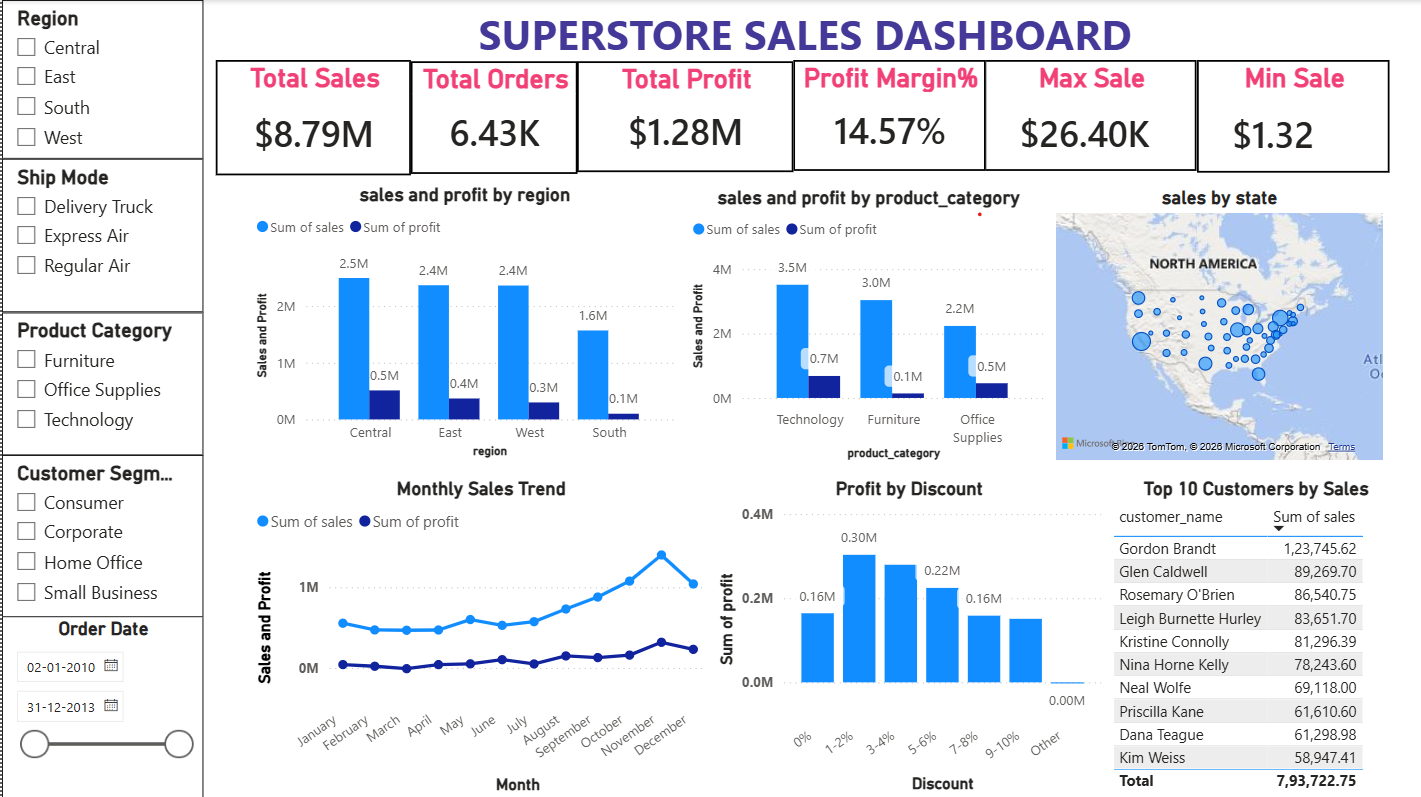

This screenshot's page, from the dashboard's own definition file:
{"tool":"powerbi","page":{"name":"Page 1","canvas":[1280,720],"ordinal":0},"visuals":[{"type":"slicer","fields":{"Values":["samplesuperstore_cleaned.region"]},"box":[0,0,181.3,143.5],"z":0},{"type":"slicer","fields":{"Values":["samplesuperstore_cleaned.ship_mode"]},"box":[0,143.5,181.3,138],"z":1000},{"type":"slicer","fields":{"Values":["samplesuperstore_cleaned.product_category"]},"box":[0,281.5,181.3,128.6],"z":2000},{"type":"slicer","fields":{"Values":["samplesuperstore_cleaned.customer_segment"]},"box":[0,410.1,181.3,146.2],"z":3000},{"type":"slicer","title":"Order Date","fields":{"Values":["samplesuperstore_cleaned.order_date"]},"box":[0,556.2,181.3,163.8],"z":4000},{"type":"lineClusteredColumnComboChart","title":" sales and  profit by product_category","fields":{"Category":["samplesuperstore_cleaned.product_category"],"Y":["Sum(samplesuperstore_cleaned.sales)","Sum(samplesuperstore_cleaned.profit)"]},"box":[617.5,167.5,327.7,251.9],"z":5000},{"type":"clusteredColumnChart","title":" sales and profit by region","fields":{"Category":["samplesuperstore_cleaned.region"],"Y":["Sum(samplesuperstore_cleaned.sales)","Sum(samplesuperstore_cleaned.profit)"]},"box":[223.8,166.2,386.2,252.5],"z":6000},{"type":"textbox","box":[309.9,0,748.4,66.3],"z":7000},{"type":"cardVisual","title":"Max Sale","fields":{"Data":["samplesuperstore_cleaned.Max Sale"]},"box":[886.4,54.1,190.8,100.1],"z":8000},{"type":"cardVisual","title":"Min Sale","fields":{"Data":["samplesuperstore_cleaned.Min Sale"]},"box":[1077.3,54.1,173.2,101.5],"z":9000},{"type":"cardVisual","title":"Profit Margin%","fields":{"Data":["samplesuperstore_cleaned.Progit Margin%"]},"box":[713.2,54.1,173.2,100.1],"z":10000},{"type":"cardVisual","title":"Total Orders","fields":{"Data":["samplesuperstore_cleaned.Total Orders"]},"box":[368.1,55.5,150.2,101.5],"z":11000},{"type":"cardVisual","title":"Total Profit","fields":{"Data":["samplesuperstore_cleaned.Total Profit"]},"box":[518.3,55.5,194.9,100.1],"z":12000},{"type":"cardVisual","title":"Total Sales","fields":{"Data":["samplesuperstore_cleaned.Total Sales"]},"box":[192.2,54.1,175.9,104.2],"z":13000},{"type":"lineChart","title":" Monthly Sales   Trend","fields":{"Category":["samplesuperstore_cleaned.order_date.Variation.Date Hierarchy.Month","samplesuperstore_cleaned.order_date.Variation.Date Hierarchy.Day"],"Y":["Sum(samplesuperstore_cleaned.sales)","Sum(samplesuperstore_cleaned.profit)"]},"box":[223.8,430.4,415.8,289.8],"z":14000},{"type":"lineStackedColumnComboChart","title":"Profit by Discount","fields":{"Y":["Sum(samplesuperstore_cleaned.profit)"],"Category":["samplesuperstore_cleaned.Discount_Bucket"]},"box":[640.1,430.4,355.9,289.6],"z":15000},{"type":"tableEx","title":"Top 10 Customers by Sales","fields":{"Values":["samplesuperstore_cleaned.customer_name","Sum(samplesuperstore_cleaned.sales)"]},"box":[996.1,430.4,269.3,289.6],"z":16000},{"type":"map","title":"Sales by State","fields":{"Category":["samplesuperstore_cleaned.state_or_province"],"Size":["Sum(samplesuperstore_cleaned.sales)"]},"box":[945.2,167.5,320.4,251.9],"z":17000}]}

Visuals, with their boxes in screenshot pixels (x1, y1, x2, y2), scaled from the page's 1280x720 canvas onto the 1421x797 screenshot:
slicer - samplesuperstore_cleaned.region: box=[0, 0, 201, 159]
slicer - samplesuperstore_cleaned.ship_mode: box=[0, 159, 201, 312]
slicer - samplesuperstore_cleaned.product_category: box=[0, 312, 201, 454]
slicer - samplesuperstore_cleaned.customer_segment: box=[0, 454, 201, 616]
"Order Date" slicer: box=[0, 616, 201, 796]
" sales and  profit by product_category" lineClusteredColumnComboChart: box=[686, 185, 1049, 464]
" sales and profit by region" clusteredColumnChart: box=[248, 184, 677, 463]
textbox: box=[344, 0, 1175, 73]
"Max Sale" cardVisual: box=[984, 60, 1196, 171]
"Min Sale" cardVisual: box=[1196, 60, 1388, 172]
"Profit Margin%" cardVisual: box=[792, 60, 984, 171]
"Total Orders" cardVisual: box=[409, 61, 575, 174]
"Total Profit" cardVisual: box=[575, 61, 792, 172]
"Total Sales" cardVisual: box=[213, 60, 409, 175]
" Monthly Sales   Trend" lineChart: box=[248, 476, 710, 796]
"Profit by Discount" lineStackedColumnComboChart: box=[711, 476, 1106, 796]
"Top 10 Customers by Sales" tableEx: box=[1106, 476, 1405, 796]
"Sales by State" map: box=[1049, 185, 1405, 464]
